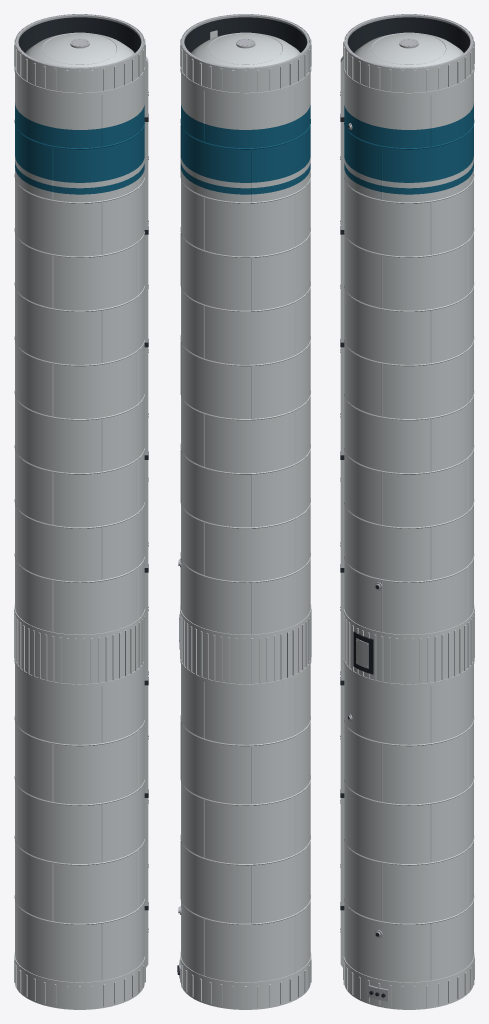
The model's file is tank_s1_m.fbx.
3 renders of one model, left to right at view 1: azimuth 90°, elevation 25°; view 2: azimuth 210°, elevation 25°; view 3: azimuth 270°, elevation 25°, orthographic.
Parts seen in each view (by area): view 1: tank_s1_m_LOD0; view 2: tank_s1_m_LOD0; view 3: tank_s1_m_LOD0.
Boxes of the visible parts, x1,y1,x2,y2 form: tank_s1_m_LOD0: [14, 14, 148, 1009]; tank_s1_m_LOD0: [177, 14, 311, 1009]; tank_s1_m_LOD0: [340, 14, 474, 1009].
Size of what is drawn, in the model's own units: 3.76 by 29.6 by 3.85.
